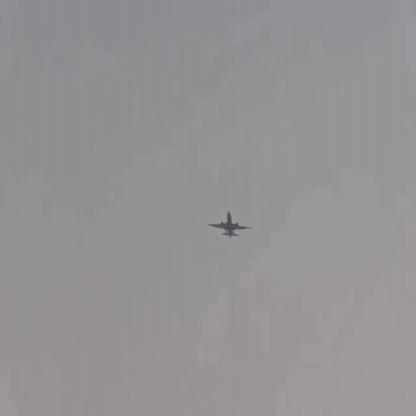CIV_Plane: (208, 211, 254, 237)
